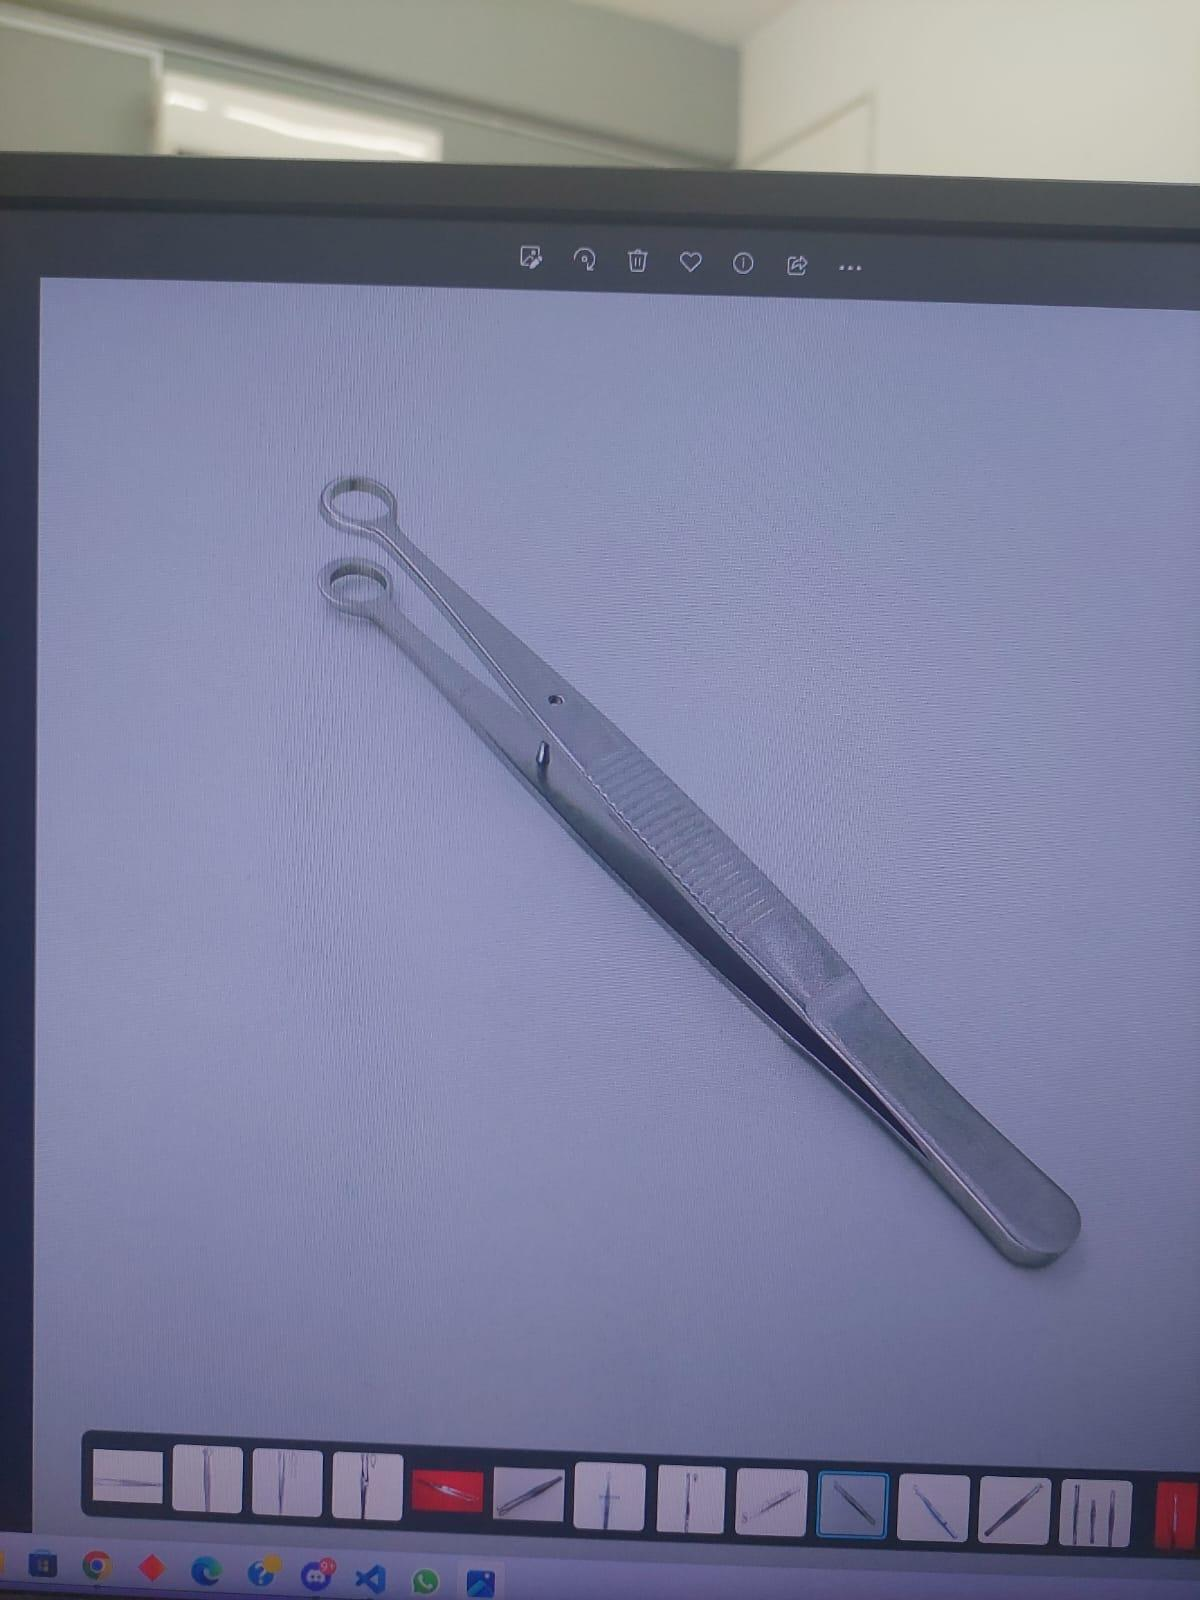Eye Intestinal Forceps: (305, 452, 1111, 1293)
